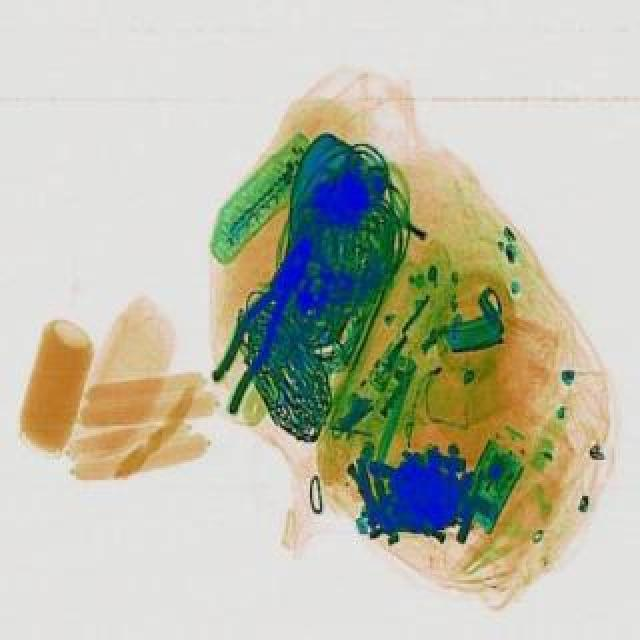wrench: (194, 226, 328, 410)
